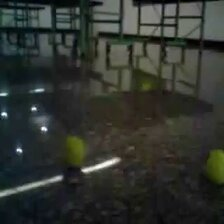tennis: (61, 136, 85, 167), (204, 149, 224, 185)
